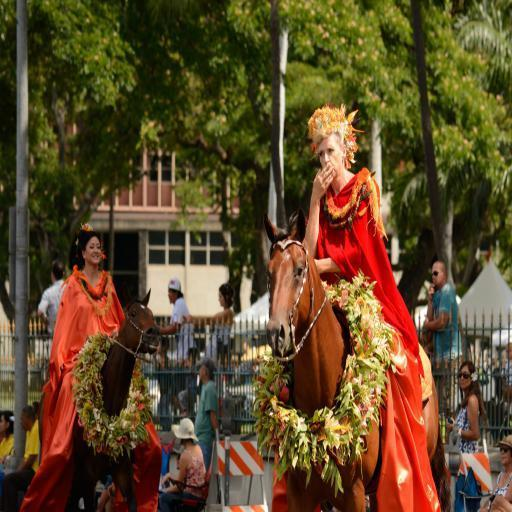horse: (265, 208, 453, 512), (36, 286, 162, 512)
